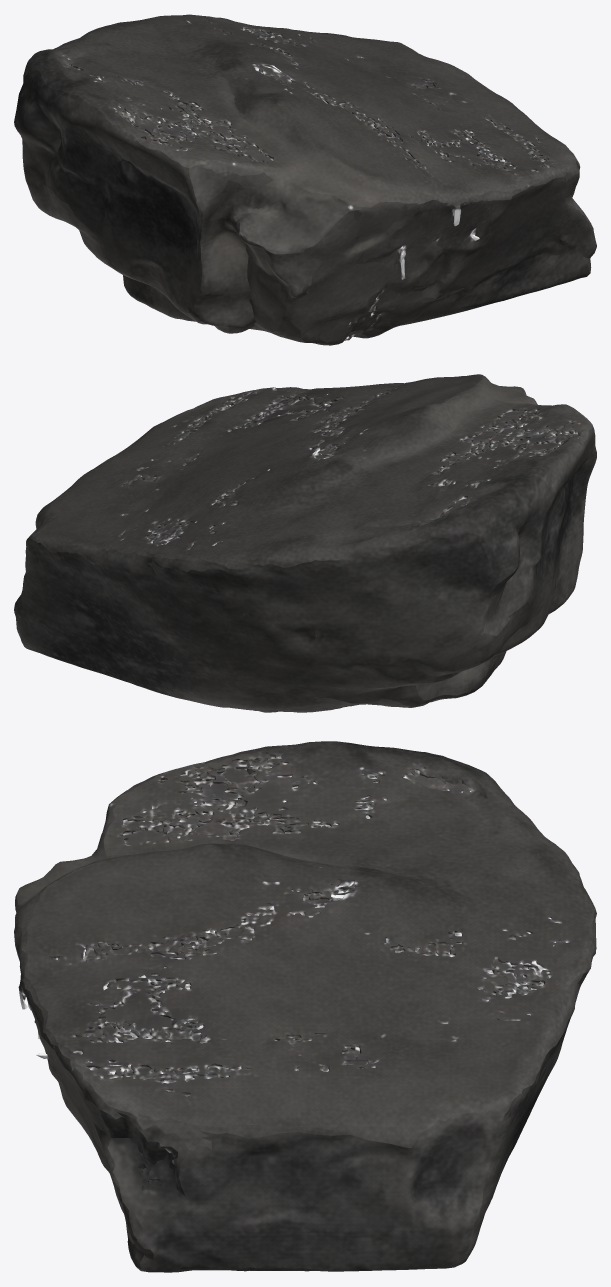
Rendered from tex_mesh.glb.
3 views of the same model, one above another, from view 1: azimuth 30°, elevation 25°; view 2: azimuth 150°, elevation 25°; view 3: azimuth 270°, elevation 25° (orthographic). The views are drawn at different scales.
Visible parts, largest first — view 1: world; view 2: world; view 3: world.
Part boxes in pixels (x1,y1,x2,y2): world: [14, 14, 596, 345]; world: [14, 374, 596, 712]; world: [14, 741, 596, 1272].
Bounding box in the file's own units: 0.32 × 0.1568 × 0.294.
Materials: 1 (1 with a texture image).
